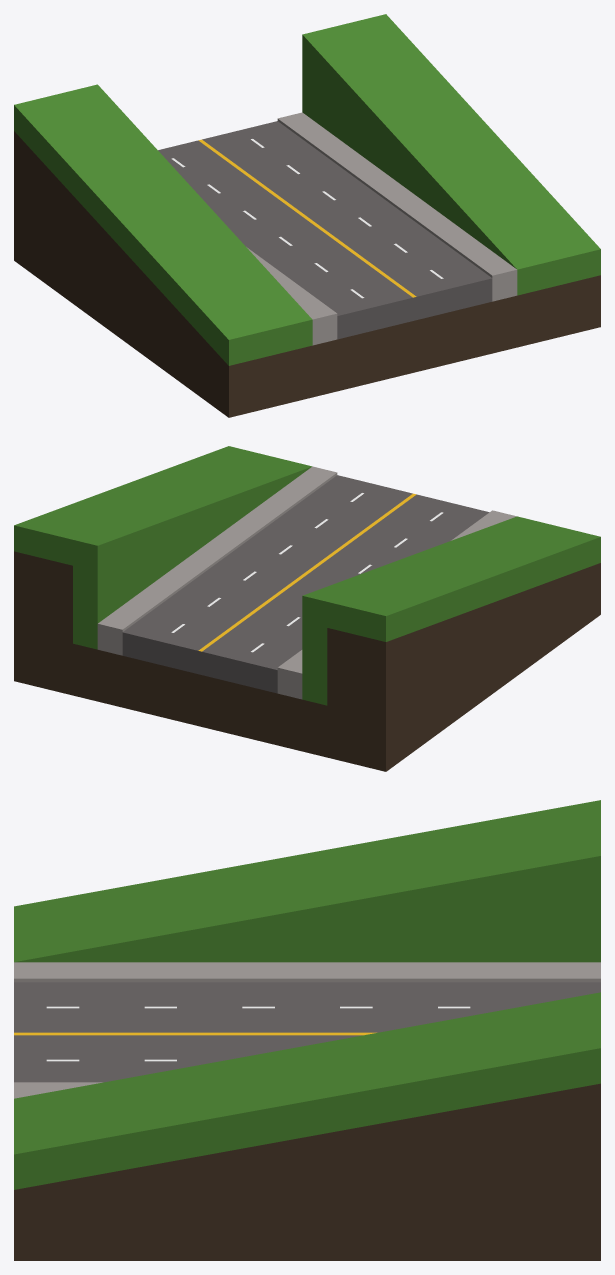
The model's file is tile-mainroad-tunnel-entrance.fbx.
The picture shows the model from 3 angles, top to bottom: view 1: azimuth 30°, elevation 25°; view 2: azimuth 150°, elevation 25°; view 3: azimuth 270°, elevation 25°; orthographic projection. The views are drawn at different scales.
Parts seen in each view (by area): view 1: tile-mainroad-tunnel-entrance; view 2: tile-mainroad-tunnel-entrance; view 3: tile-mainroad-tunnel-entrance.
Part boxes in pixels (box(x1,y1,x2,y2)): tile-mainroad-tunnel-entrance: box(14, 14, 600, 417); tile-mainroad-tunnel-entrance: box(14, 446, 600, 771); tile-mainroad-tunnel-entrance: box(14, 800, 600, 1260).
Bounding box in the file's own units: 30 × 12 × 30.
